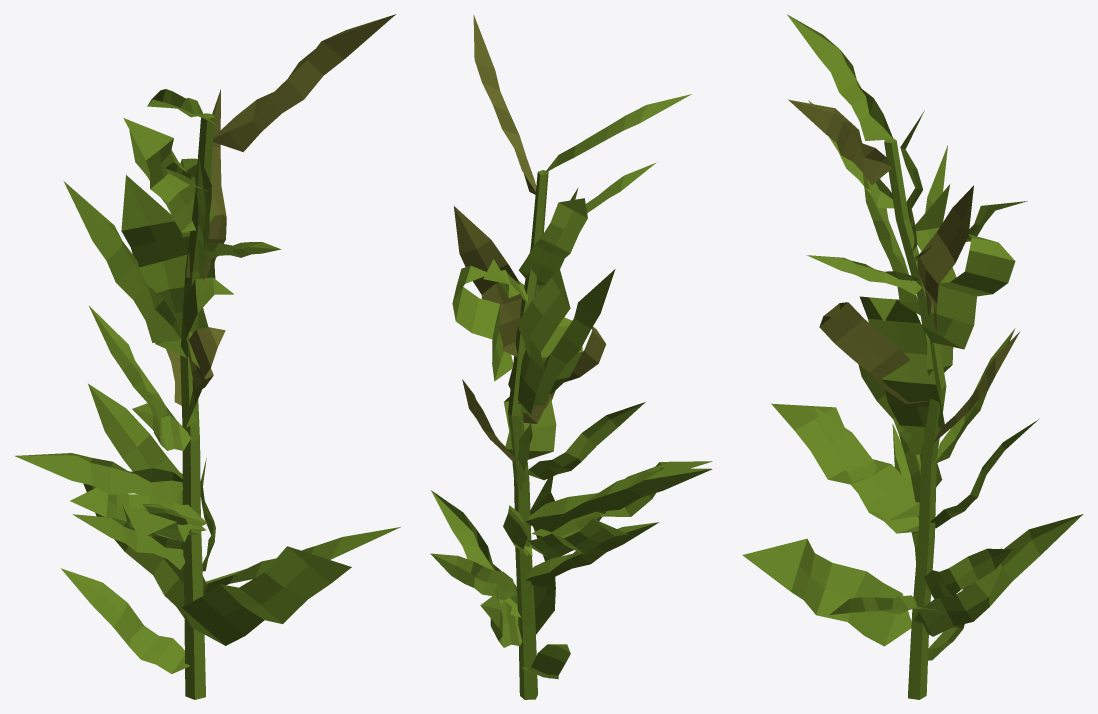
File: Corn3.glb
The picture shows the model from 3 angles, left to right: view 1: azimuth 30°, elevation 25°; view 2: azimuth 150°, elevation 25°; view 3: azimuth 270°, elevation 25°; orthographic projection. The views are drawn at different scales.
Parts seen in each view (by area): view 1: Corn.Geo.002; view 2: Corn.Geo.002; view 3: Corn.Geo.002.
Part boxes in pixels (box(x1,y1,x2,y2)): Corn.Geo.002: box(15, 14, 400, 699); Corn.Geo.002: box(430, 15, 712, 699); Corn.Geo.002: box(742, 14, 1083, 699).
Size of the model in its own units: 3.74 by 7.03 by 3.31.
